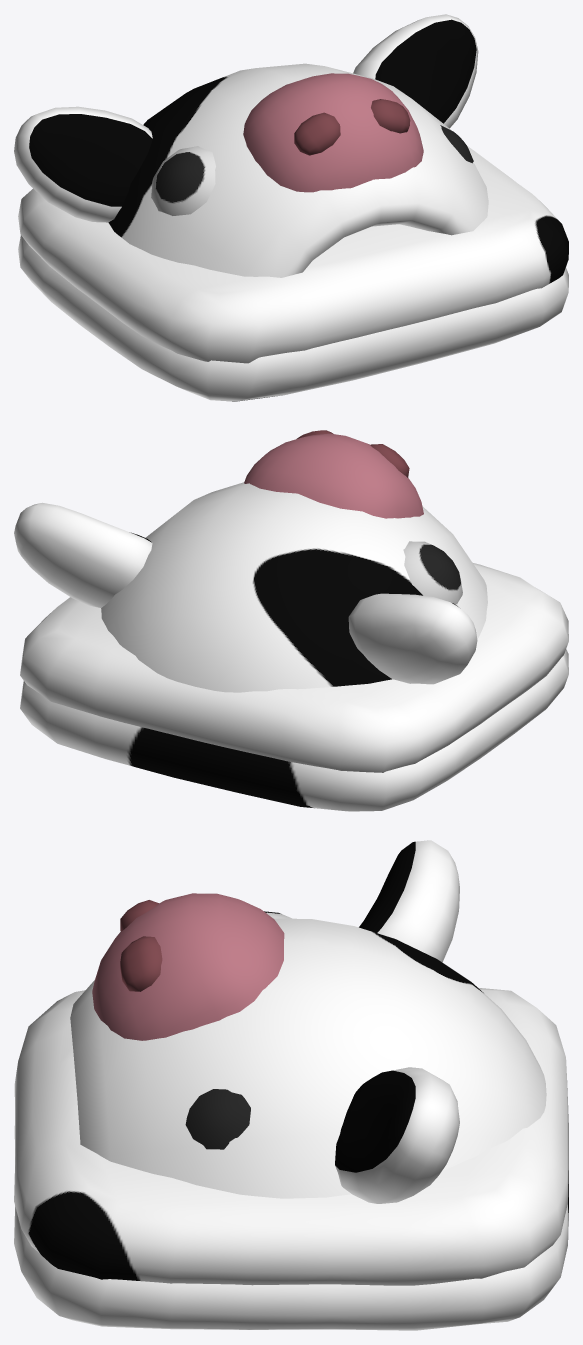
Rendered from Bodobosuagap.fbx.
The picture shows the model from 3 angles, top to bottom: view 1: azimuth 30°, elevation 25°; view 2: azimuth 150°, elevation 25°; view 3: azimuth 270°, elevation 25°; orthographic projection. The views are drawn at different scales.
Visible parts, largest first — view 1: Bodobosuagap; view 2: Bodobosuagap; view 3: Bodobosuagap.
Part boxes in pixels (x1=…): Bodobosuagap: x1=14, y1=14, x2=568, y2=401; Bodobosuagap: x1=14, y1=430, x2=568, y2=811; Bodobosuagap: x1=14, y1=840, x2=568, y2=1330.
Bounding box in the file's own units: 193 × 105 × 158.
